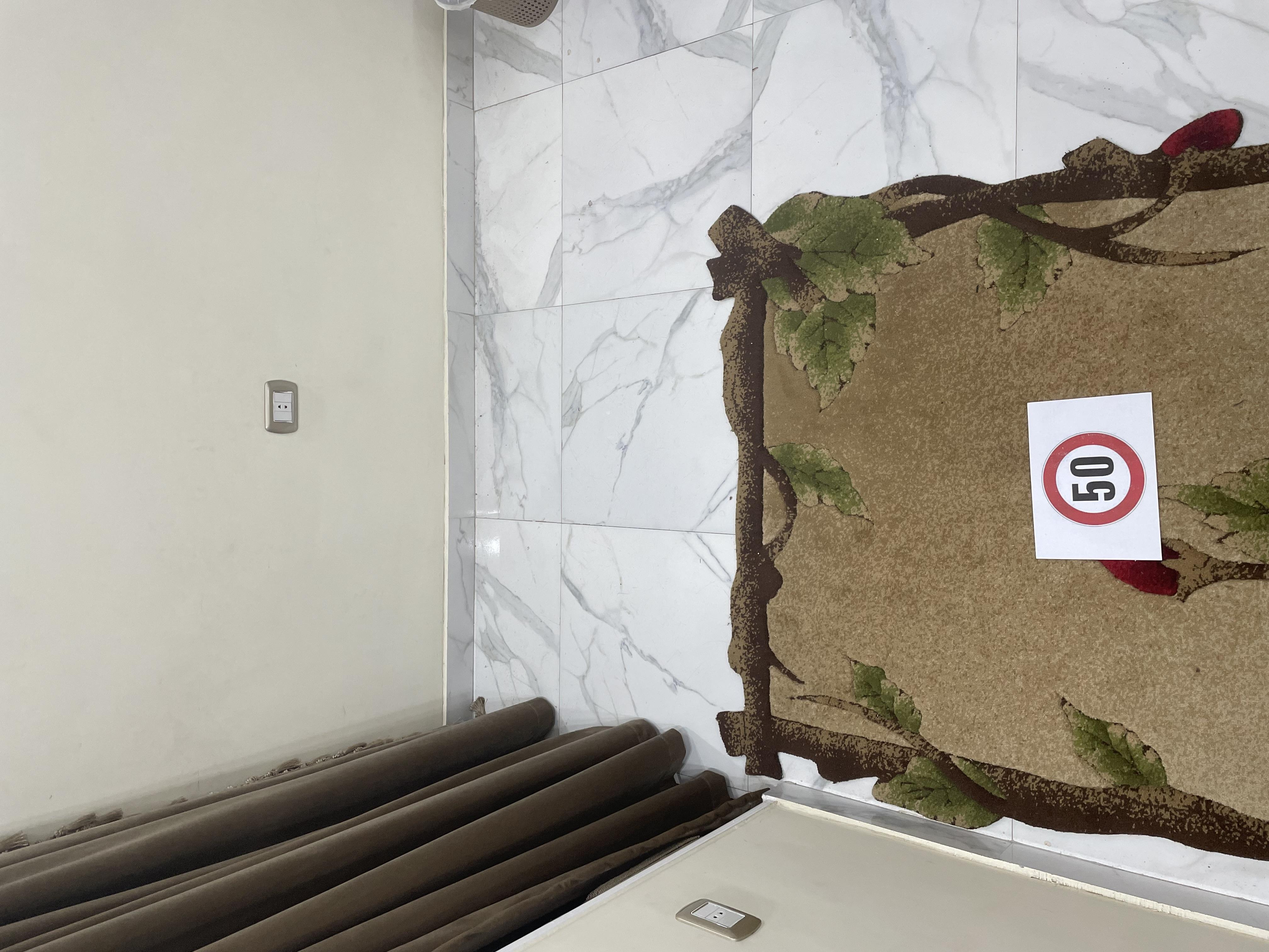50-Speed: (563, 780, 696, 860)
